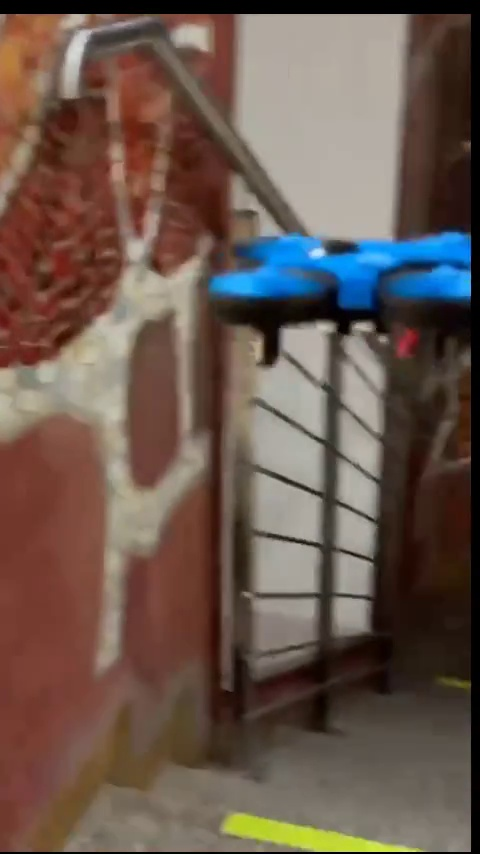drone: (215, 232, 472, 369)
